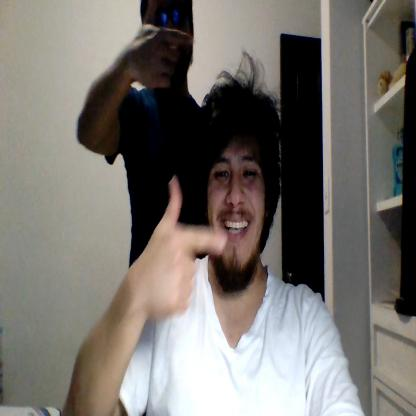G: (140, 178, 228, 314), (132, 0, 193, 88)
